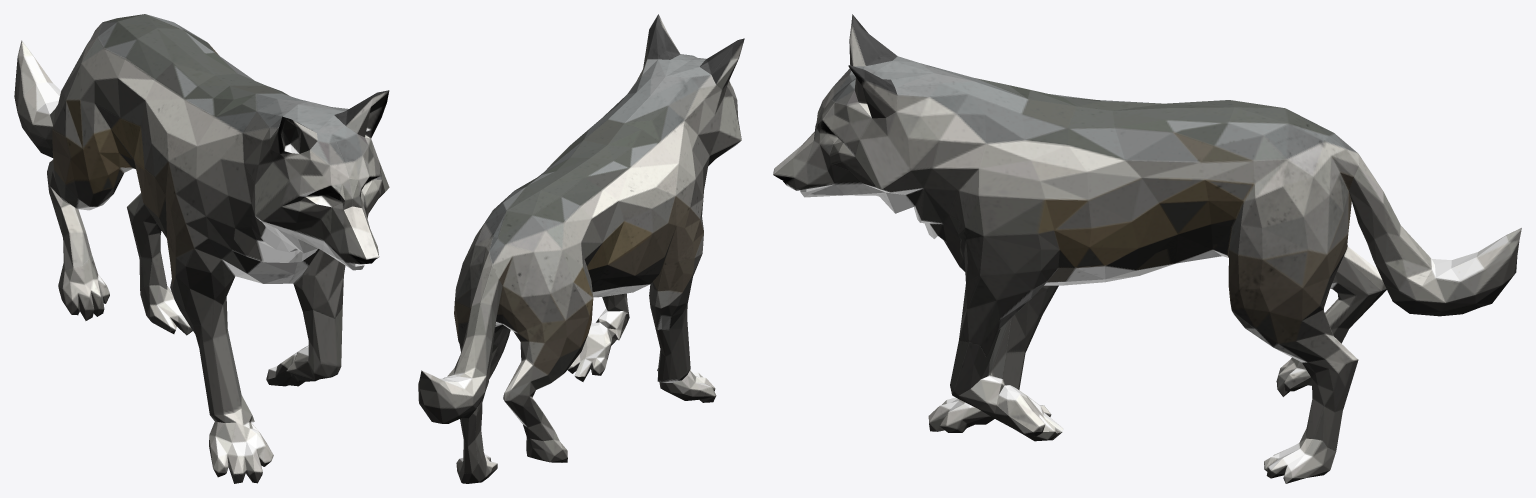
The model's file is snow-wolf.glb.
The picture shows the model from 3 angles, left to right: view 1: azimuth 30°, elevation 25°; view 2: azimuth 150°, elevation 25°; view 3: azimuth 270°, elevation 25°; orthographic projection. The views are drawn at different scales.
Parts seen in each view (by area): view 1: grey_wolf2.1_1; view 2: grey_wolf2.1_1; view 3: grey_wolf2.1_1.
Boxes of the visible parts, box(x1,y1,x2,y2) form: grey_wolf2.1_1: box(14, 14, 389, 483); grey_wolf2.1_1: box(418, 14, 744, 483); grey_wolf2.1_1: box(773, 14, 1521, 483).
Size of the model in its own units: 0.5891 by 1.44 by 2.37.
1 material, 1 textured.
